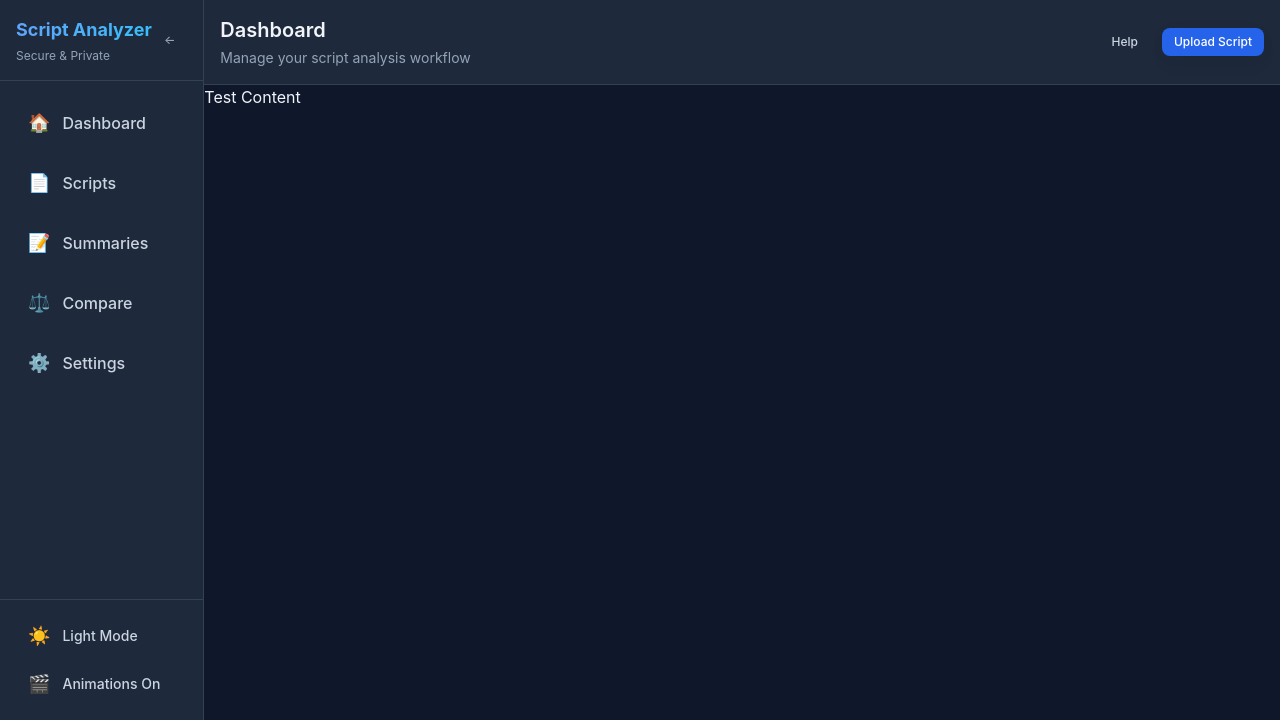
Test: AppShell › toggles sidebar collapse state
Click to collapse sidebar
Click the button "←": click(170, 40) [152,26,187,54]
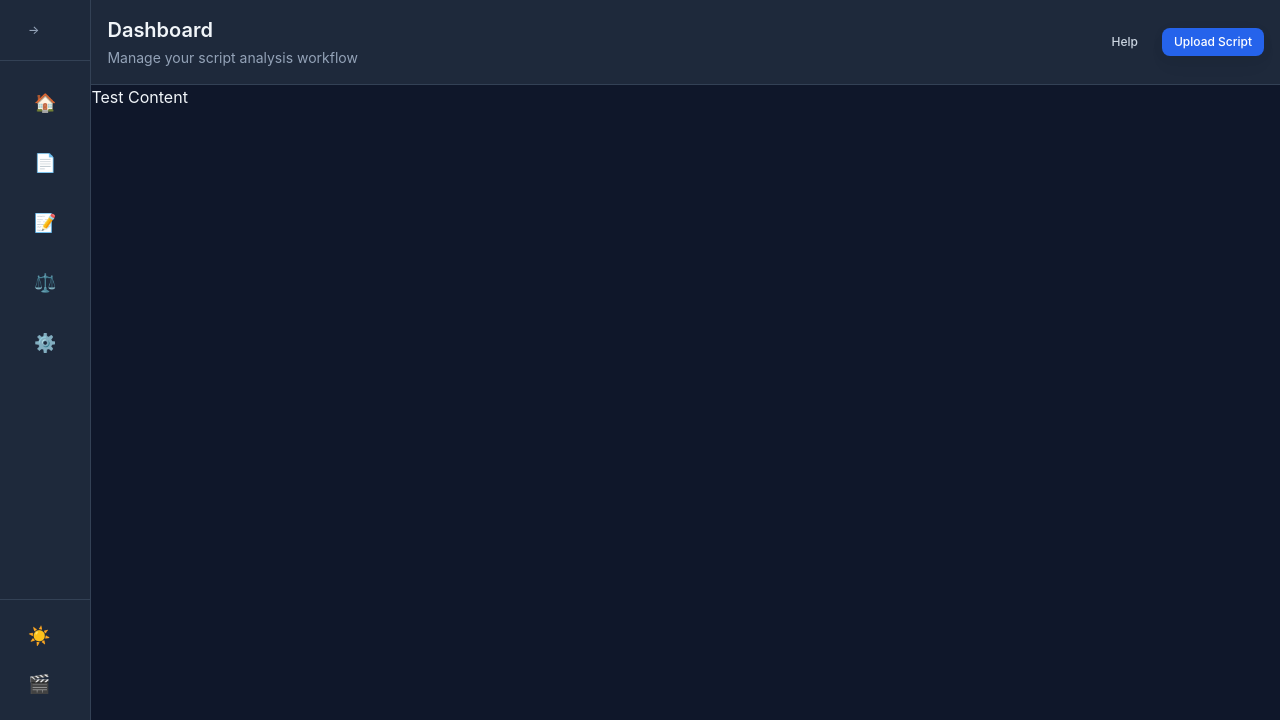
Expected: the button "→" is shown, [16,16,52,44]
